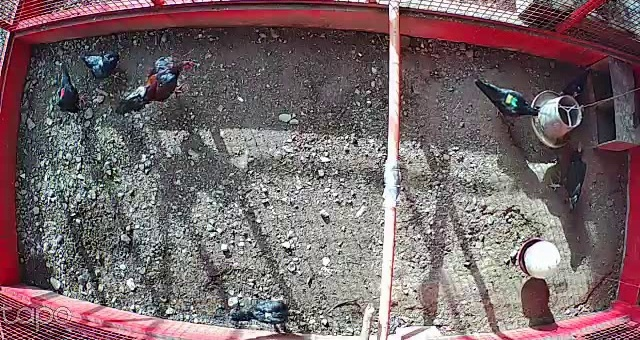Chicken: (468, 74, 542, 125), (548, 138, 589, 218), (234, 296, 297, 330), (55, 62, 91, 115), (75, 50, 127, 81), (551, 66, 594, 98)
Rooster: (118, 52, 196, 114)
Saddle_Color_Red: (61, 86, 66, 99)
Saddle_Color_YellowGreen: (503, 92, 518, 107)
